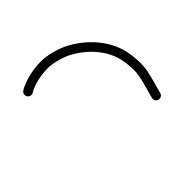n: (17, 30, 171, 114)
